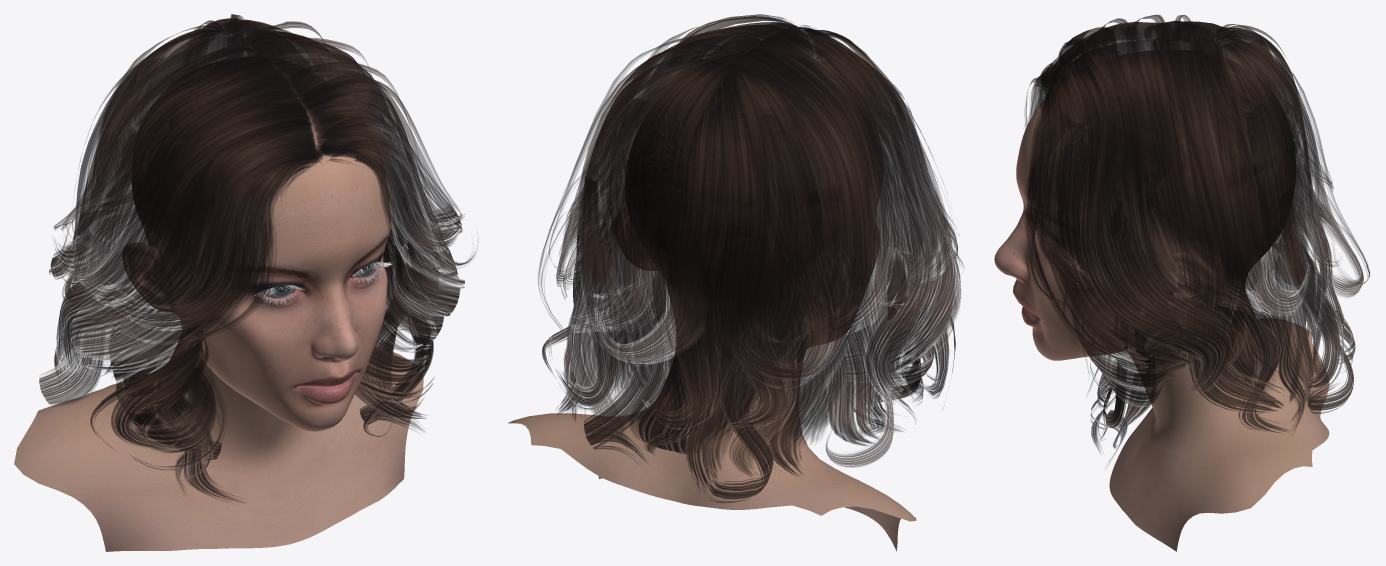
The model's file is angelica3d.glb.
3 renders of one model, left to right at view 1: azimuth 30°, elevation 25°; view 2: azimuth 150°, elevation 25°; view 3: azimuth 270°, elevation 25°, orthographic. The views are drawn at different scales.
Parts seen in each view (by area): view 1: Hair_Hair_0, Head_Head_0, Eyelashes_Eyelashes_0, Eye_Eye_0; view 2: Hair_Hair_0, Head_Head_0; view 3: Hair_Hair_0, Head_Head_0.
Boxes of the visible parts, <box> form: Hair_Hair_0: <box>39,14,477,502</box>; Head_Head_0: <box>14,57,423,551</box>; Eyelashes_Eyelashes_0: <box>254,261,391,304</box>; Eye_Eye_0: <box>261,262,377,298</box>; Hair_Hair_0: <box>538,14,963,502</box>; Head_Head_0: <box>508,50,916,551</box>; Hair_Hair_0: <box>1024,14,1369,464</box>; Head_Head_0: <box>994,50,1329,551</box>.
Size of what is drawn, in the model's own units: 171 by 193 by 146.
Materials: 5 (4 with a texture image).
